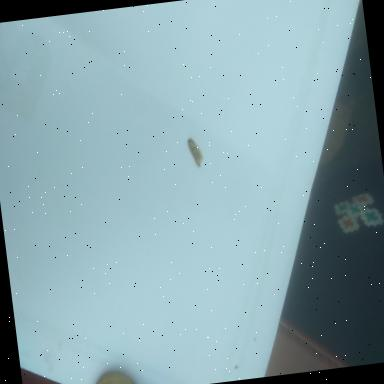pbw: (187, 138, 204, 168)
